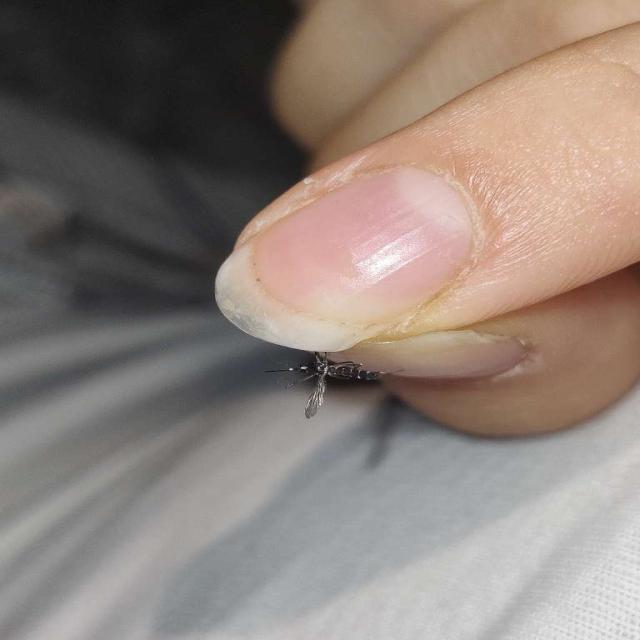albopictus: (256, 336, 406, 421)
